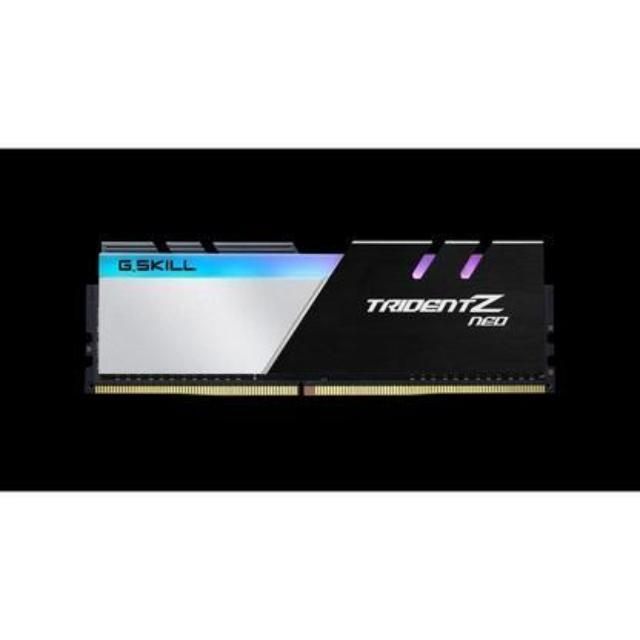RAM: (71, 221, 564, 419)
